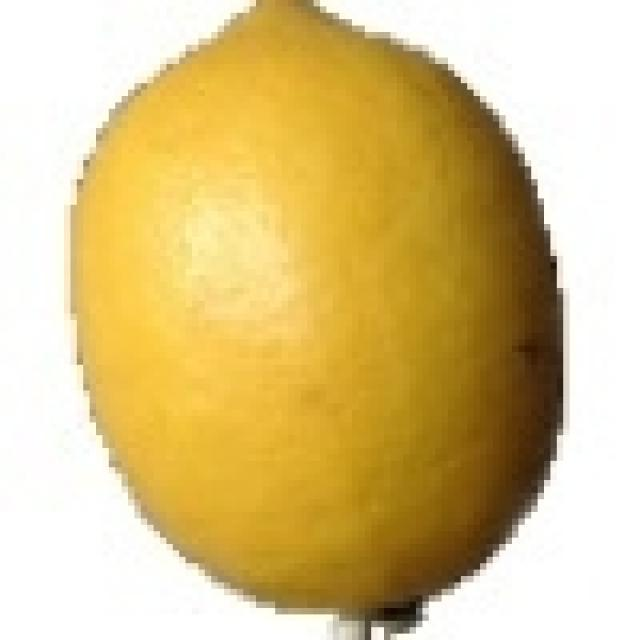lemon: (72, 0, 558, 618)
